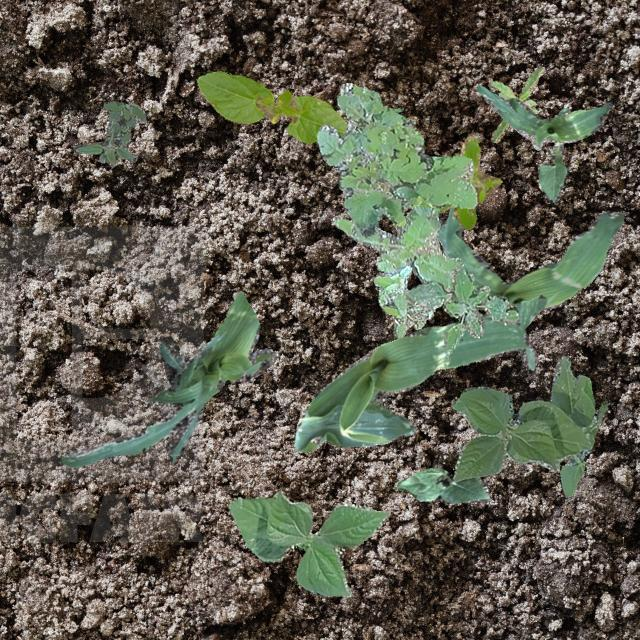crop: (294, 294, 546, 452), (59, 289, 276, 466), (451, 356, 606, 496), (436, 205, 624, 307), (228, 489, 386, 596), (196, 70, 346, 142), (476, 84, 612, 148), (396, 466, 488, 504), (536, 108, 568, 202)
weed: (316, 81, 476, 236), (332, 204, 472, 290), (403, 264, 518, 352), (436, 134, 501, 228), (72, 100, 144, 166), (372, 264, 433, 338), (488, 65, 544, 142)
